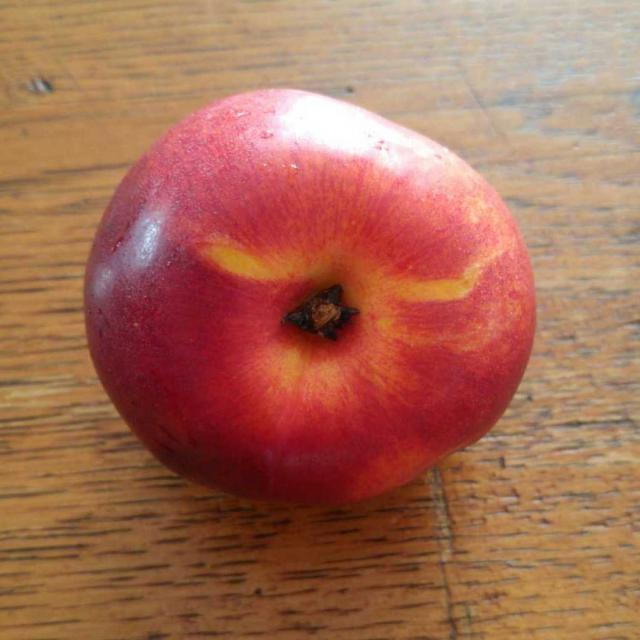nectarine: (90, 99, 531, 495)
